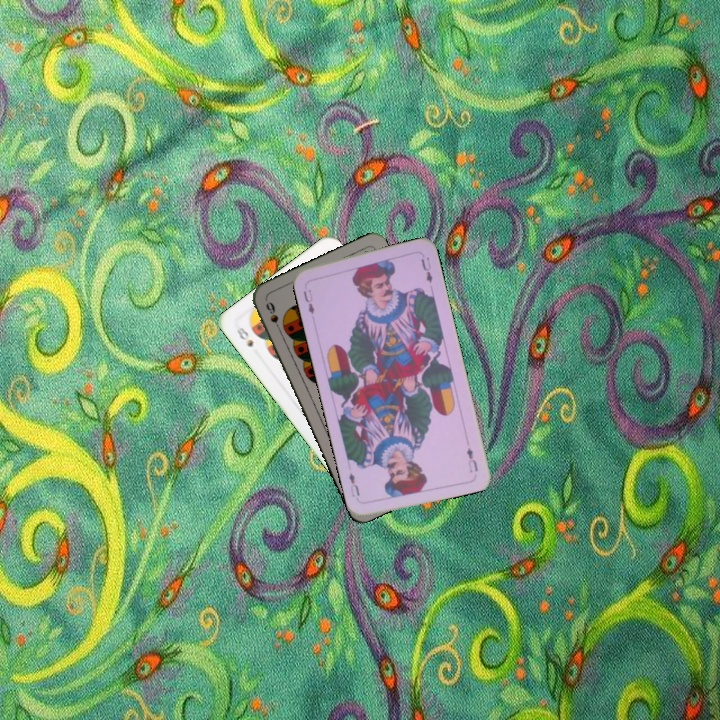EU: (299, 285, 317, 317), (463, 443, 481, 475)
S8: (232, 323, 256, 350)
S9: (262, 297, 285, 336)
